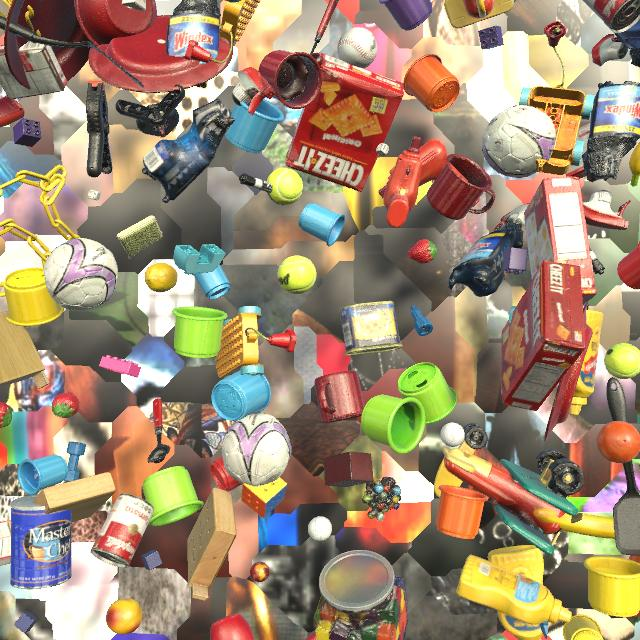ycb_002_master_chef_can: (10, 494, 72, 589)
ycb_003_cracker_box: (285, 53, 404, 192), (501, 260, 586, 411), (524, 176, 597, 305)
ycb_004_sugar_box: (122, 0, 146, 11)
ycb_005_tomato_soup_can: (90, 493, 154, 568), (583, 0, 640, 33)
ycb_006_mustard_bottle: (456, 555, 572, 625), (488, 545, 551, 640), (566, 310, 603, 415)
ycb_008_pudding_box: (0, 41, 68, 100)
ycb_009_gelatin_box: (566, 123, 590, 179), (0, 520, 11, 566)
ycb_010_potted_meat_can: (340, 301, 403, 356)
ycb_011_banana: (533, 507, 615, 539), (629, 142, 640, 186)
ycb_012_strawberry: (407, 239, 437, 264), (52, 392, 79, 418), (0, 402, 12, 428), (305, 632, 317, 640)
ycb_013_apple: (210, 613, 255, 640)
ycb_014_lemon: (144, 263, 178, 292)
ycb_015_peach: (106, 598, 143, 635)
ycb_017_orange: (596, 421, 640, 463)
